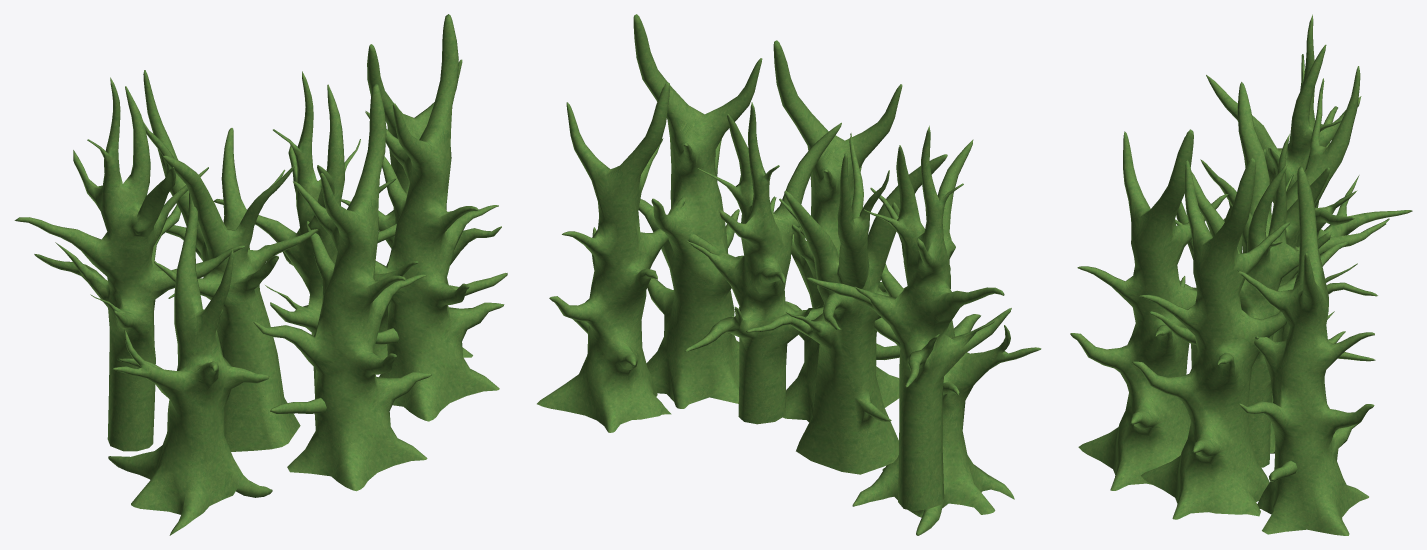
Rendered from SM_ENV_KNFRST_DistanceTree_GroupF.FBX.
3 renders of one model, left to right at view 1: azimuth 30°, elevation 25°; view 2: azimuth 150°, elevation 25°; view 3: azimuth 270°, elevation 25°, orthographic. The views are drawn at different scales.
Visible parts, largest first — view 1: SM_ENV_KNFRST_DistanceTree_GroupF; view 2: SM_ENV_KNFRST_DistanceTree_GroupF; view 3: SM_ENV_KNFRST_DistanceTree_GroupF.
Boxes of the visible parts, left/top/right/bottom form: SM_ENV_KNFRST_DistanceTree_GroupF: left=14, top=14, right=507, bottom=535; SM_ENV_KNFRST_DistanceTree_GroupF: left=537, top=14, right=1041, bottom=535; SM_ENV_KNFRST_DistanceTree_GroupF: left=1070, top=14, right=1412, bottom=535.
Size of the model in its own units: 12371 by 10628 by 7839.
